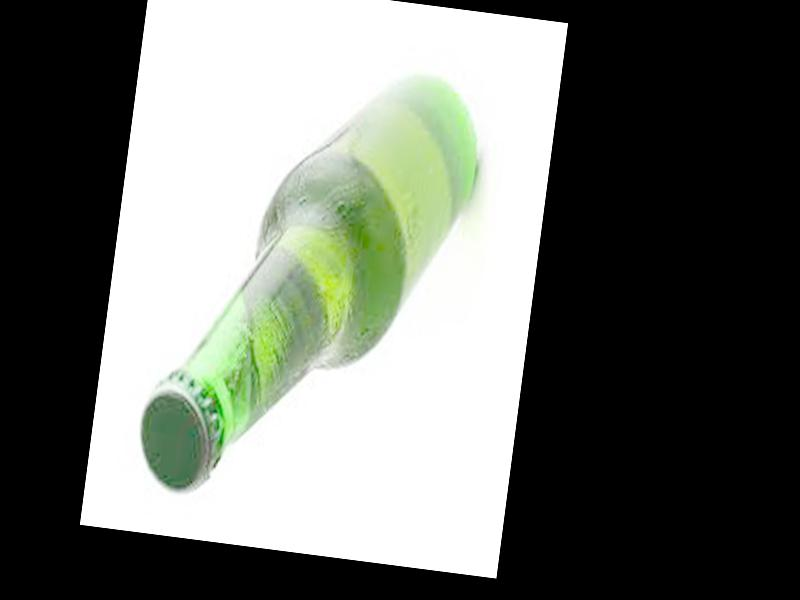Beer: (133, 43, 490, 526)
